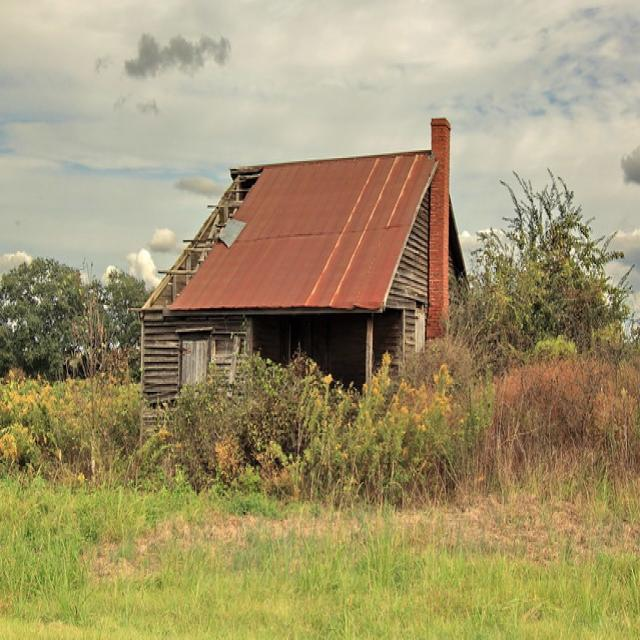Normal_building: (130, 135, 479, 486)
